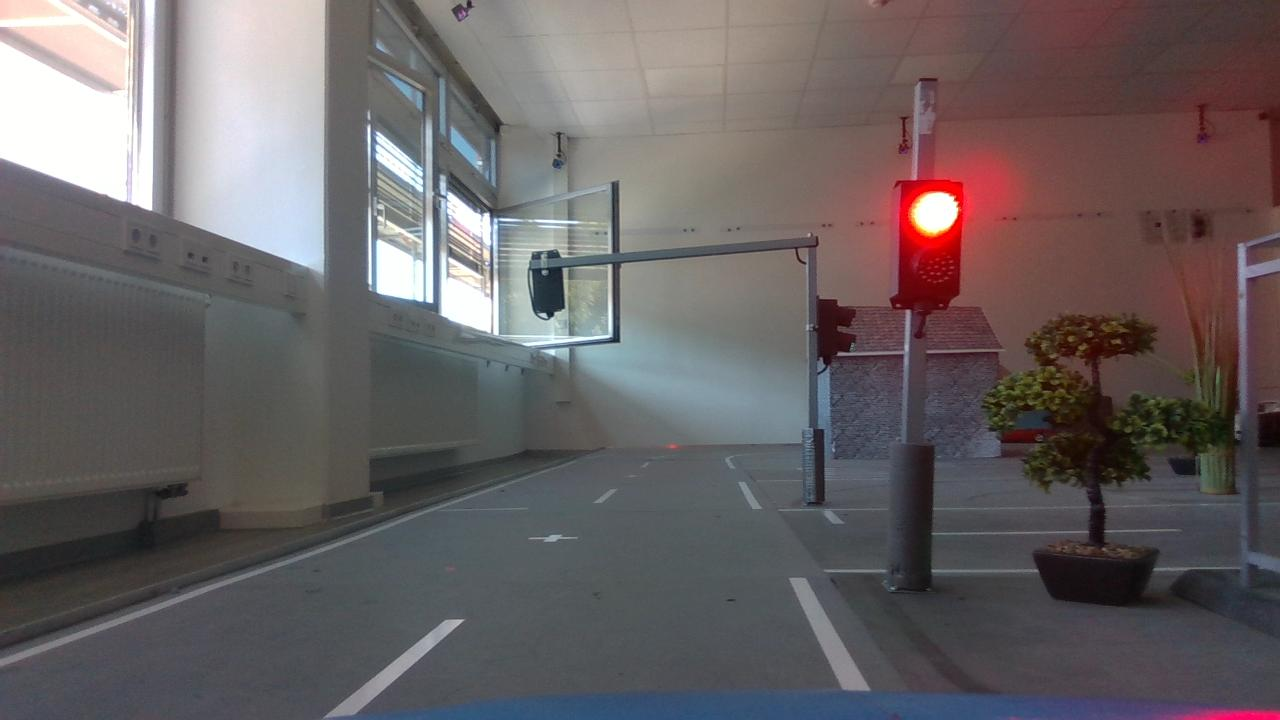traffic_light_red: (887, 168, 980, 313)
